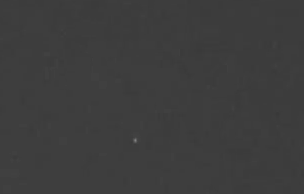Target: (135, 138, 137, 142)
